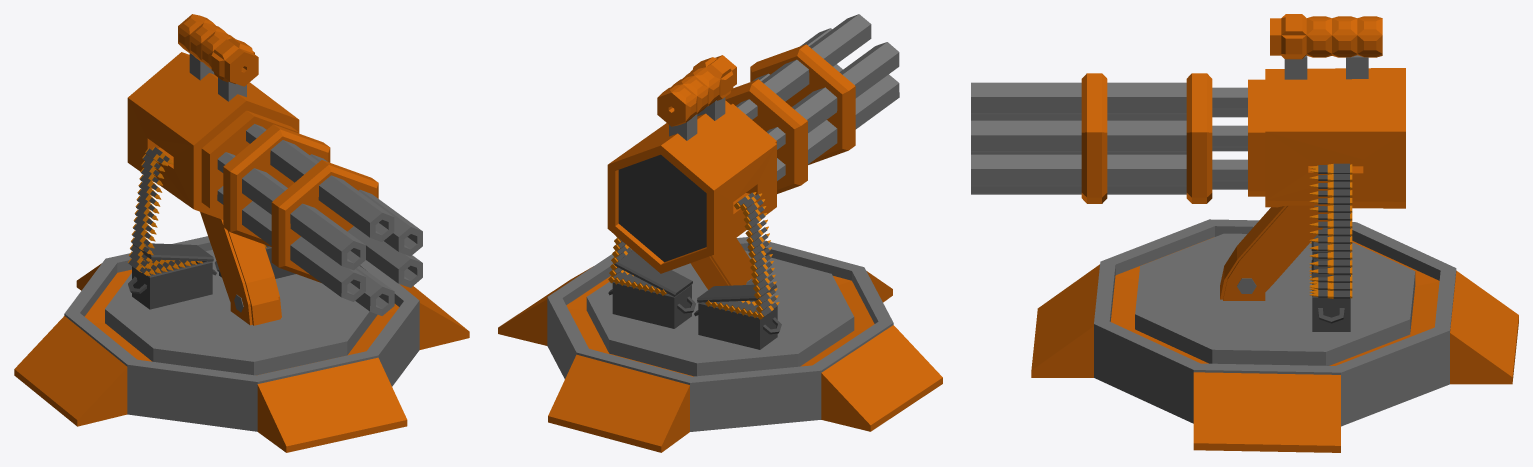
File: minigun.glb
3 renders of one model, left to right at view 1: azimuth 30°, elevation 25°; view 2: azimuth 150°, elevation 25°; view 3: azimuth 270°, elevation 25°, orthographic. The views are drawn at different scales.
Visible parts, largest first — view 1: Base1GatelingGunTurret, Gun1GatelngGunTurret, PipesGatelngGunTurret, AmmoBox1GatelingGun, MiddleGatelingGunTurret, LaserSightGatelingGunTurret; view 2: Base1GatelingGunTurret, Gun1GatelngGunTurret, AmmoBox1GatelingGun, PipesGatelngGunTurret, LaserSightGatelingGunTurret, MiddleGatelingGunTurret; view 3: Base1GatelingGunTurret, Gun1GatelngGunTurret, PipesGatelngGunTurret, AmmoBox1GatelingGun, MiddleGatelingGunTurret, LaserSightGatelingGunTurret.
Boxes of the visible parts, left/top/right/bottom form: Base1GatelingGunTurret: left=14, top=236, right=469, bottom=452; Gun1GatelngGunTurret: left=127, top=52, right=378, bottom=282; PipesGatelngGunTurret: left=217, top=124, right=422, bottom=315; AmmoBox1GatelingGun: left=128, top=147, right=295, bottom=309; MiddleGatelingGunTurret: left=200, top=212, right=281, bottom=325; LaserSightGatelingGunTurret: left=178, top=14, right=258, bottom=101; Base1GatelingGunTurret: left=498, top=237, right=942, bottom=452; Gun1GatelngGunTurret: left=607, top=44, right=855, bottom=273; AmmoBox1GatelingGun: left=608, top=192, right=781, bottom=349; PipesGatelngGunTurret: left=736, top=14, right=899, bottom=180; LaserSightGatelingGunTurret: left=657, top=55, right=736, bottom=140; MiddleGatelingGunTurret: left=690, top=238, right=754, bottom=289; Base1GatelingGunTurret: left=1031, top=219, right=1518, bottom=452; Gun1GatelngGunTurret: left=1081, top=68, right=1405, bottom=208; PipesGatelngGunTurret: left=971, top=82, right=1247, bottom=194; AmmoBox1GatelingGun: left=1309, top=163, right=1352, bottom=331; MiddleGatelingGunTurret: left=1220, top=205, right=1330, bottom=300; LaserSightGatelingGunTurret: left=1270, top=14, right=1382, bottom=79.
Bounding box in the file's own units: 3.25 × 2.46 × 3.66.
